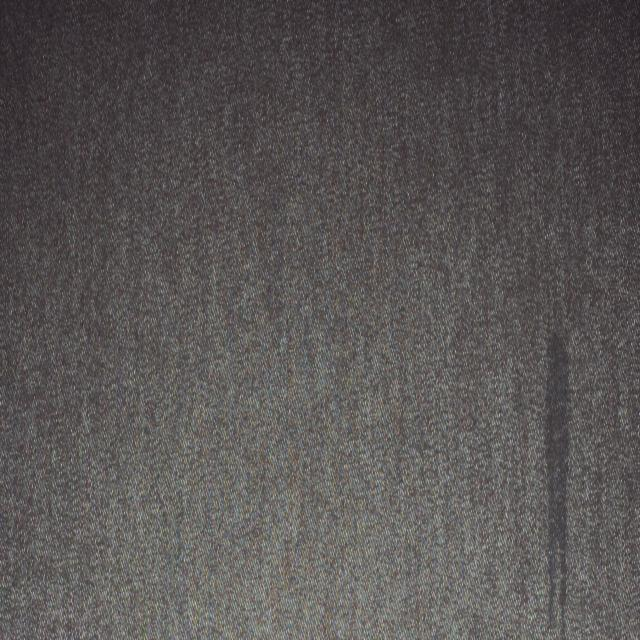Stain: (545, 333, 571, 640)
